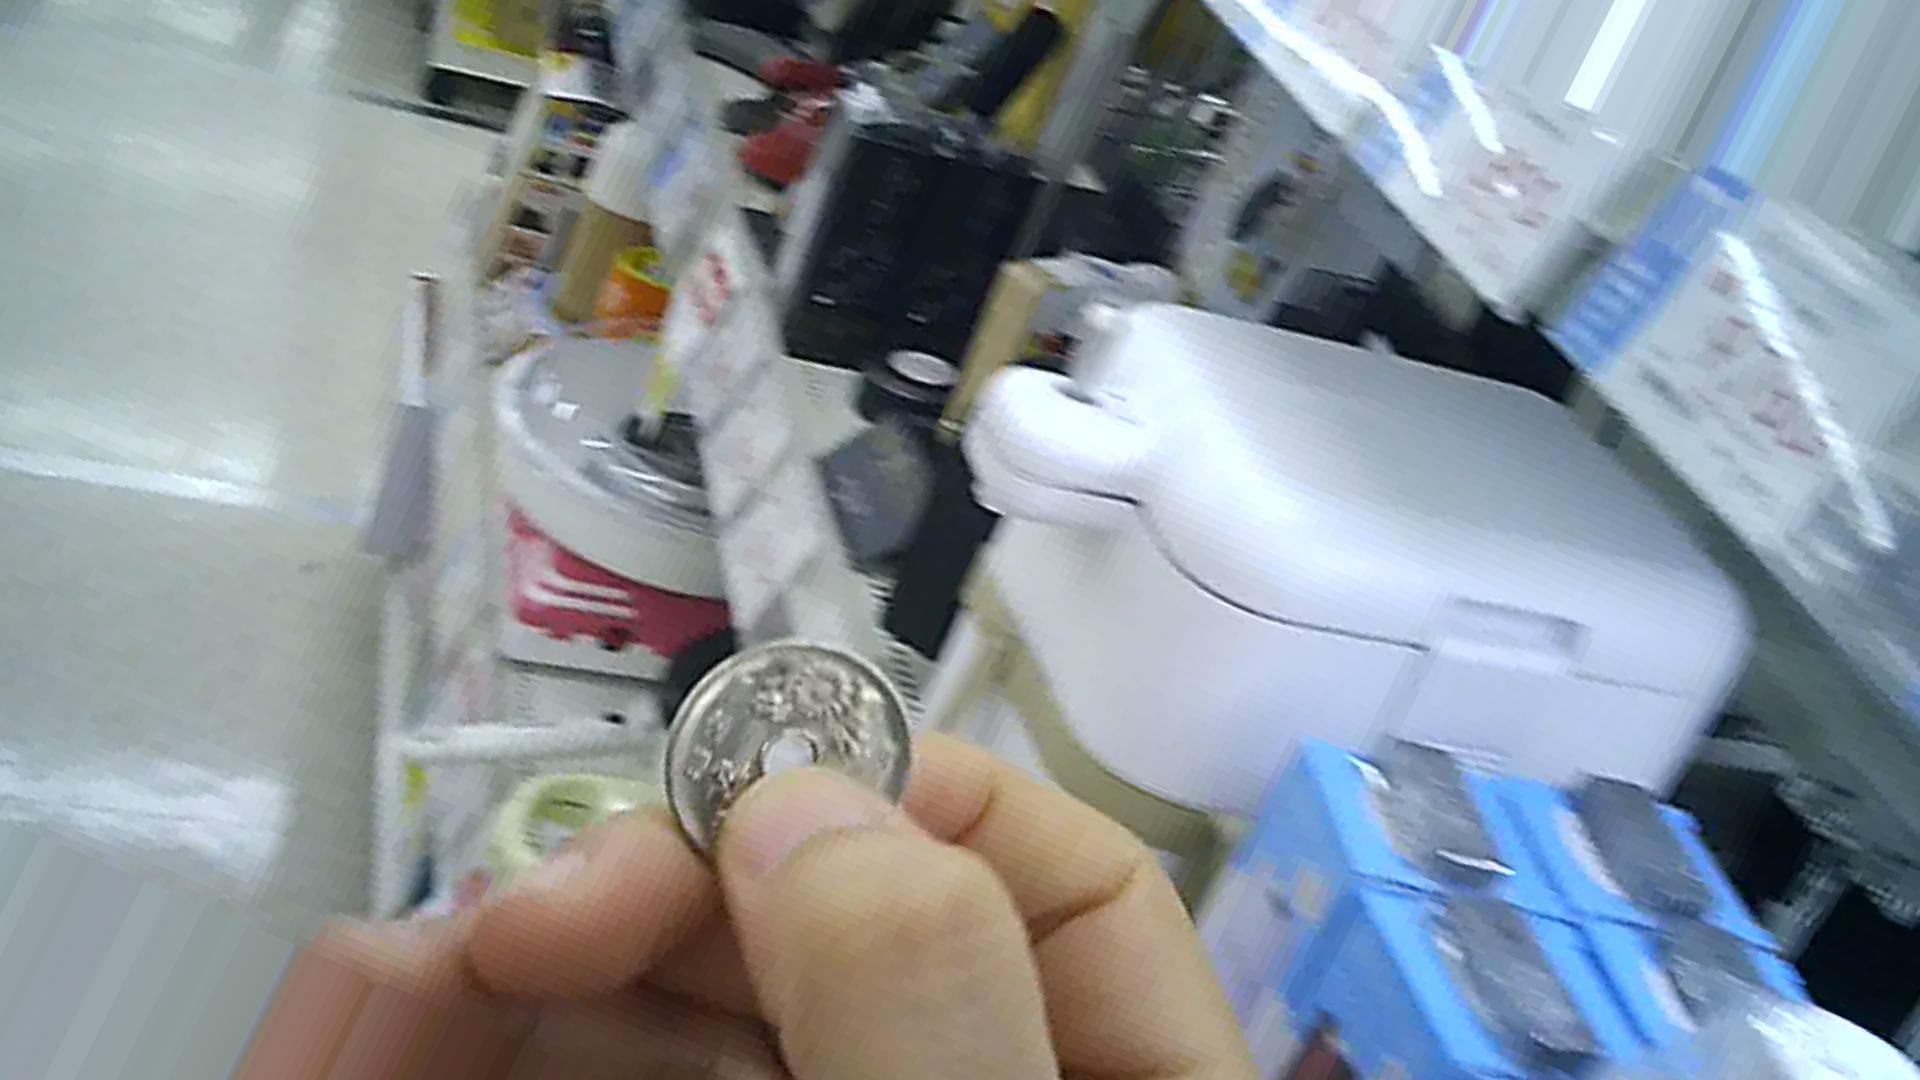50 Yen: (651, 640, 920, 862)
